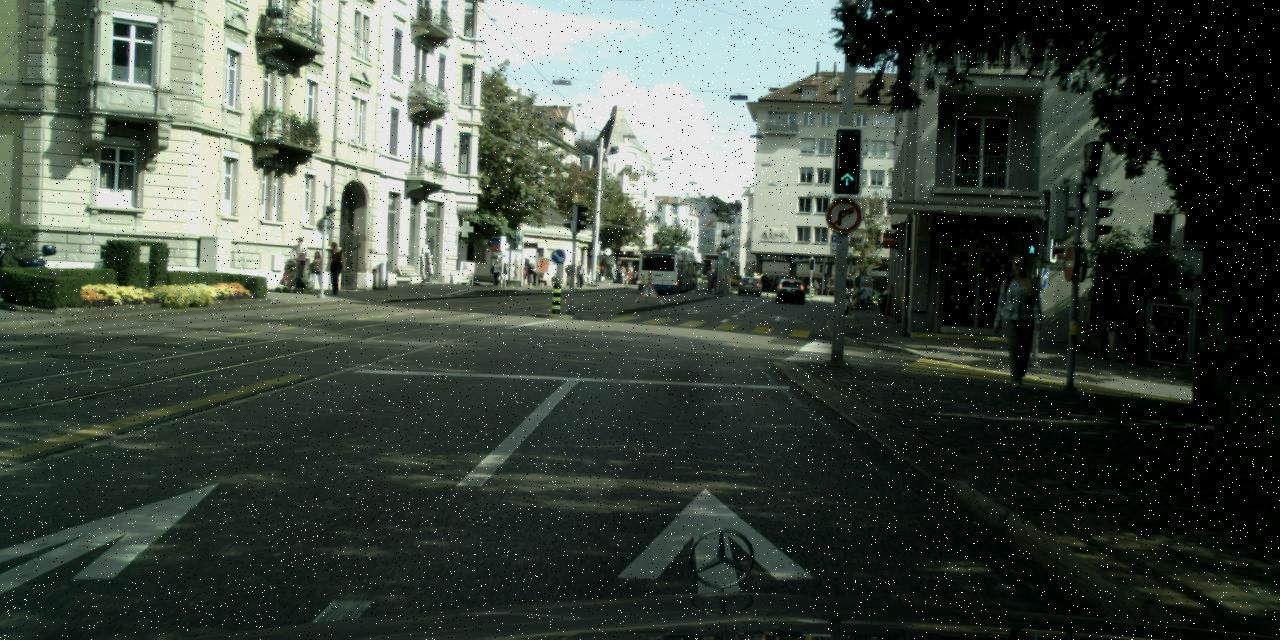ped: (993, 255, 1045, 386), (288, 237, 310, 291), (324, 240, 345, 294), (308, 250, 326, 293), (490, 256, 502, 286), (524, 262, 535, 288), (574, 260, 584, 288), (568, 262, 578, 287), (704, 266, 714, 290), (618, 265, 626, 284), (711, 270, 718, 288), (626, 268, 632, 284), (812, 279, 818, 295)
